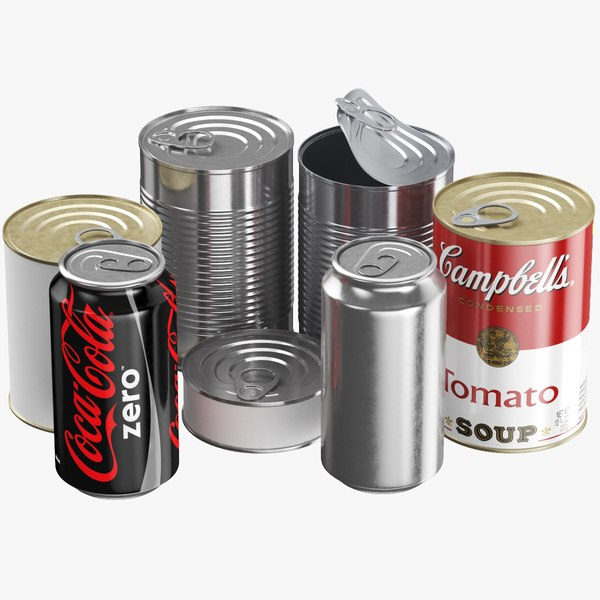cylinder: (432, 172, 595, 454), (138, 106, 295, 372), (2, 194, 163, 434), (49, 238, 180, 500), (298, 124, 455, 334), (321, 235, 447, 494), (181, 329, 321, 454)
